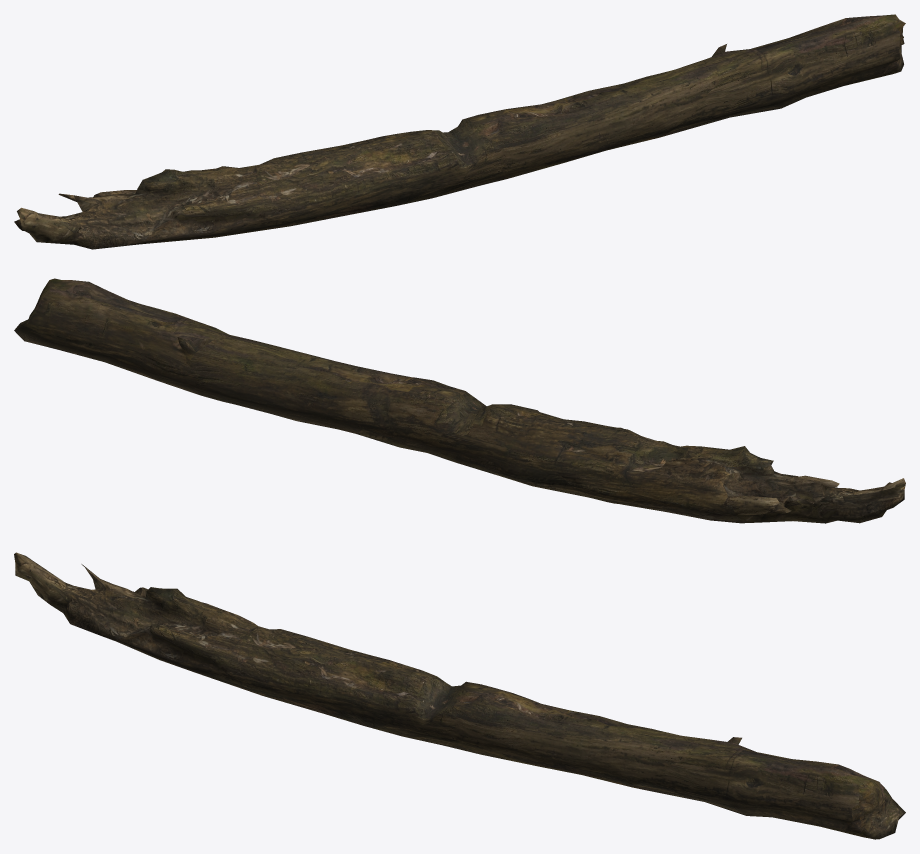
The model's file is SM_Log.fbx.
3 renders of one model, top to bottom at view 1: azimuth 30°, elevation 25°; view 2: azimuth 150°, elevation 25°; view 3: azimuth 330°, elevation 25°, orthographic.
Visible parts, largest first — view 1: SM_Log; view 2: SM_Log; view 3: SM_Log.
Part boxes in pixels (x1,y1,x2,y2): SM_Log: (14,14,905,249); SM_Log: (14,278,905,523); SM_Log: (14,552,905,839).
Bounding box in the file's own units: 3.04 × 0.2907 × 0.2754.
